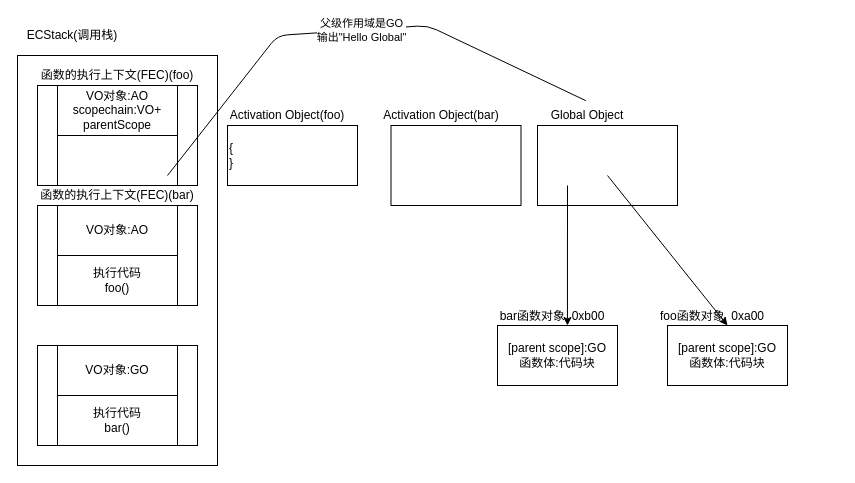
The diagram is 855 pixels wide and 483 high, and some of its shapes have lost their labels. Here are the shapes that lost their labels. From the top down, the centre of each, then its label:
point (117, 160): 执行代码 console.log(message)
point (455, 165): { message:"Hello Bar" }
point (607, 165): { window:GlobalObjet, message:"Hello Global", foo:0xa00, bar:0xb00 }
